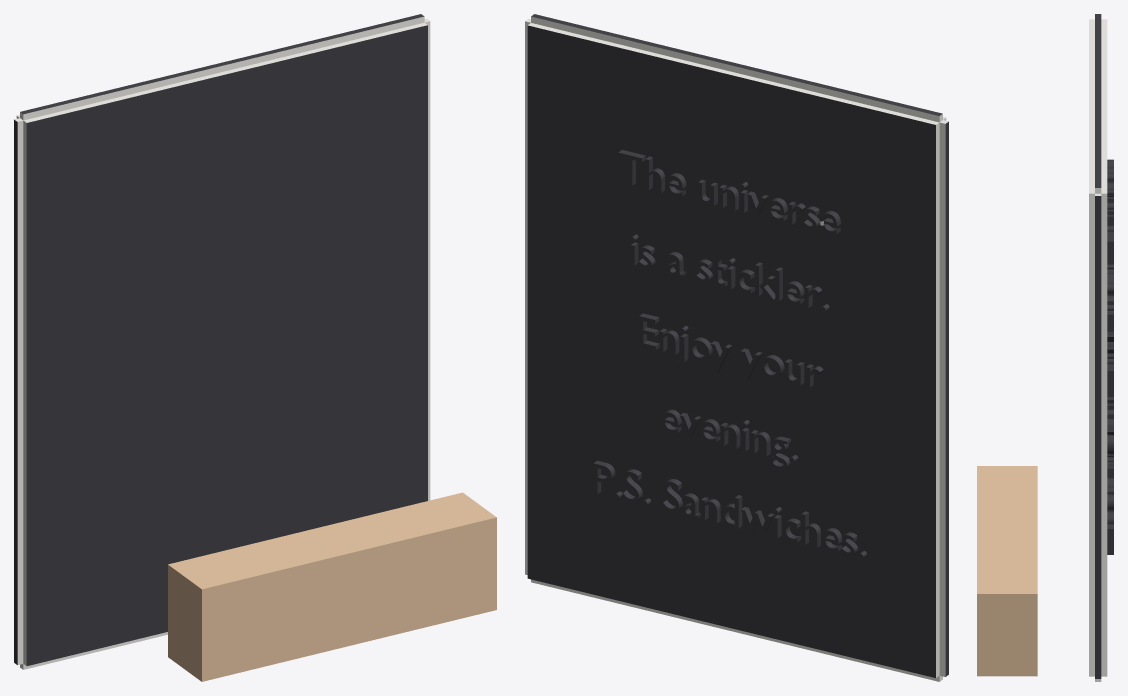
Rendered from note_graves.glb.
The picture shows the model from 3 angles, left to right: view 1: azimuth 30°, elevation 25°; view 2: azimuth 150°, elevation 25°; view 3: azimuth 270°, elevation 25°; orthographic projection. The views are drawn at different scales.
Parts seen in each view (by area): view 1: note_graves; view 2: note_graves; view 3: note_graves.
Boxes of the visible parts, left/top/right/bottom form: note_graves: left=14, top=14, right=496, bottom=681; note_graves: left=525, top=14, right=948, bottom=681; note_graves: left=977, top=14, right=1113, bottom=681.
Size of the model in its own units: 0.14 by 0.18 by 0.0452.
